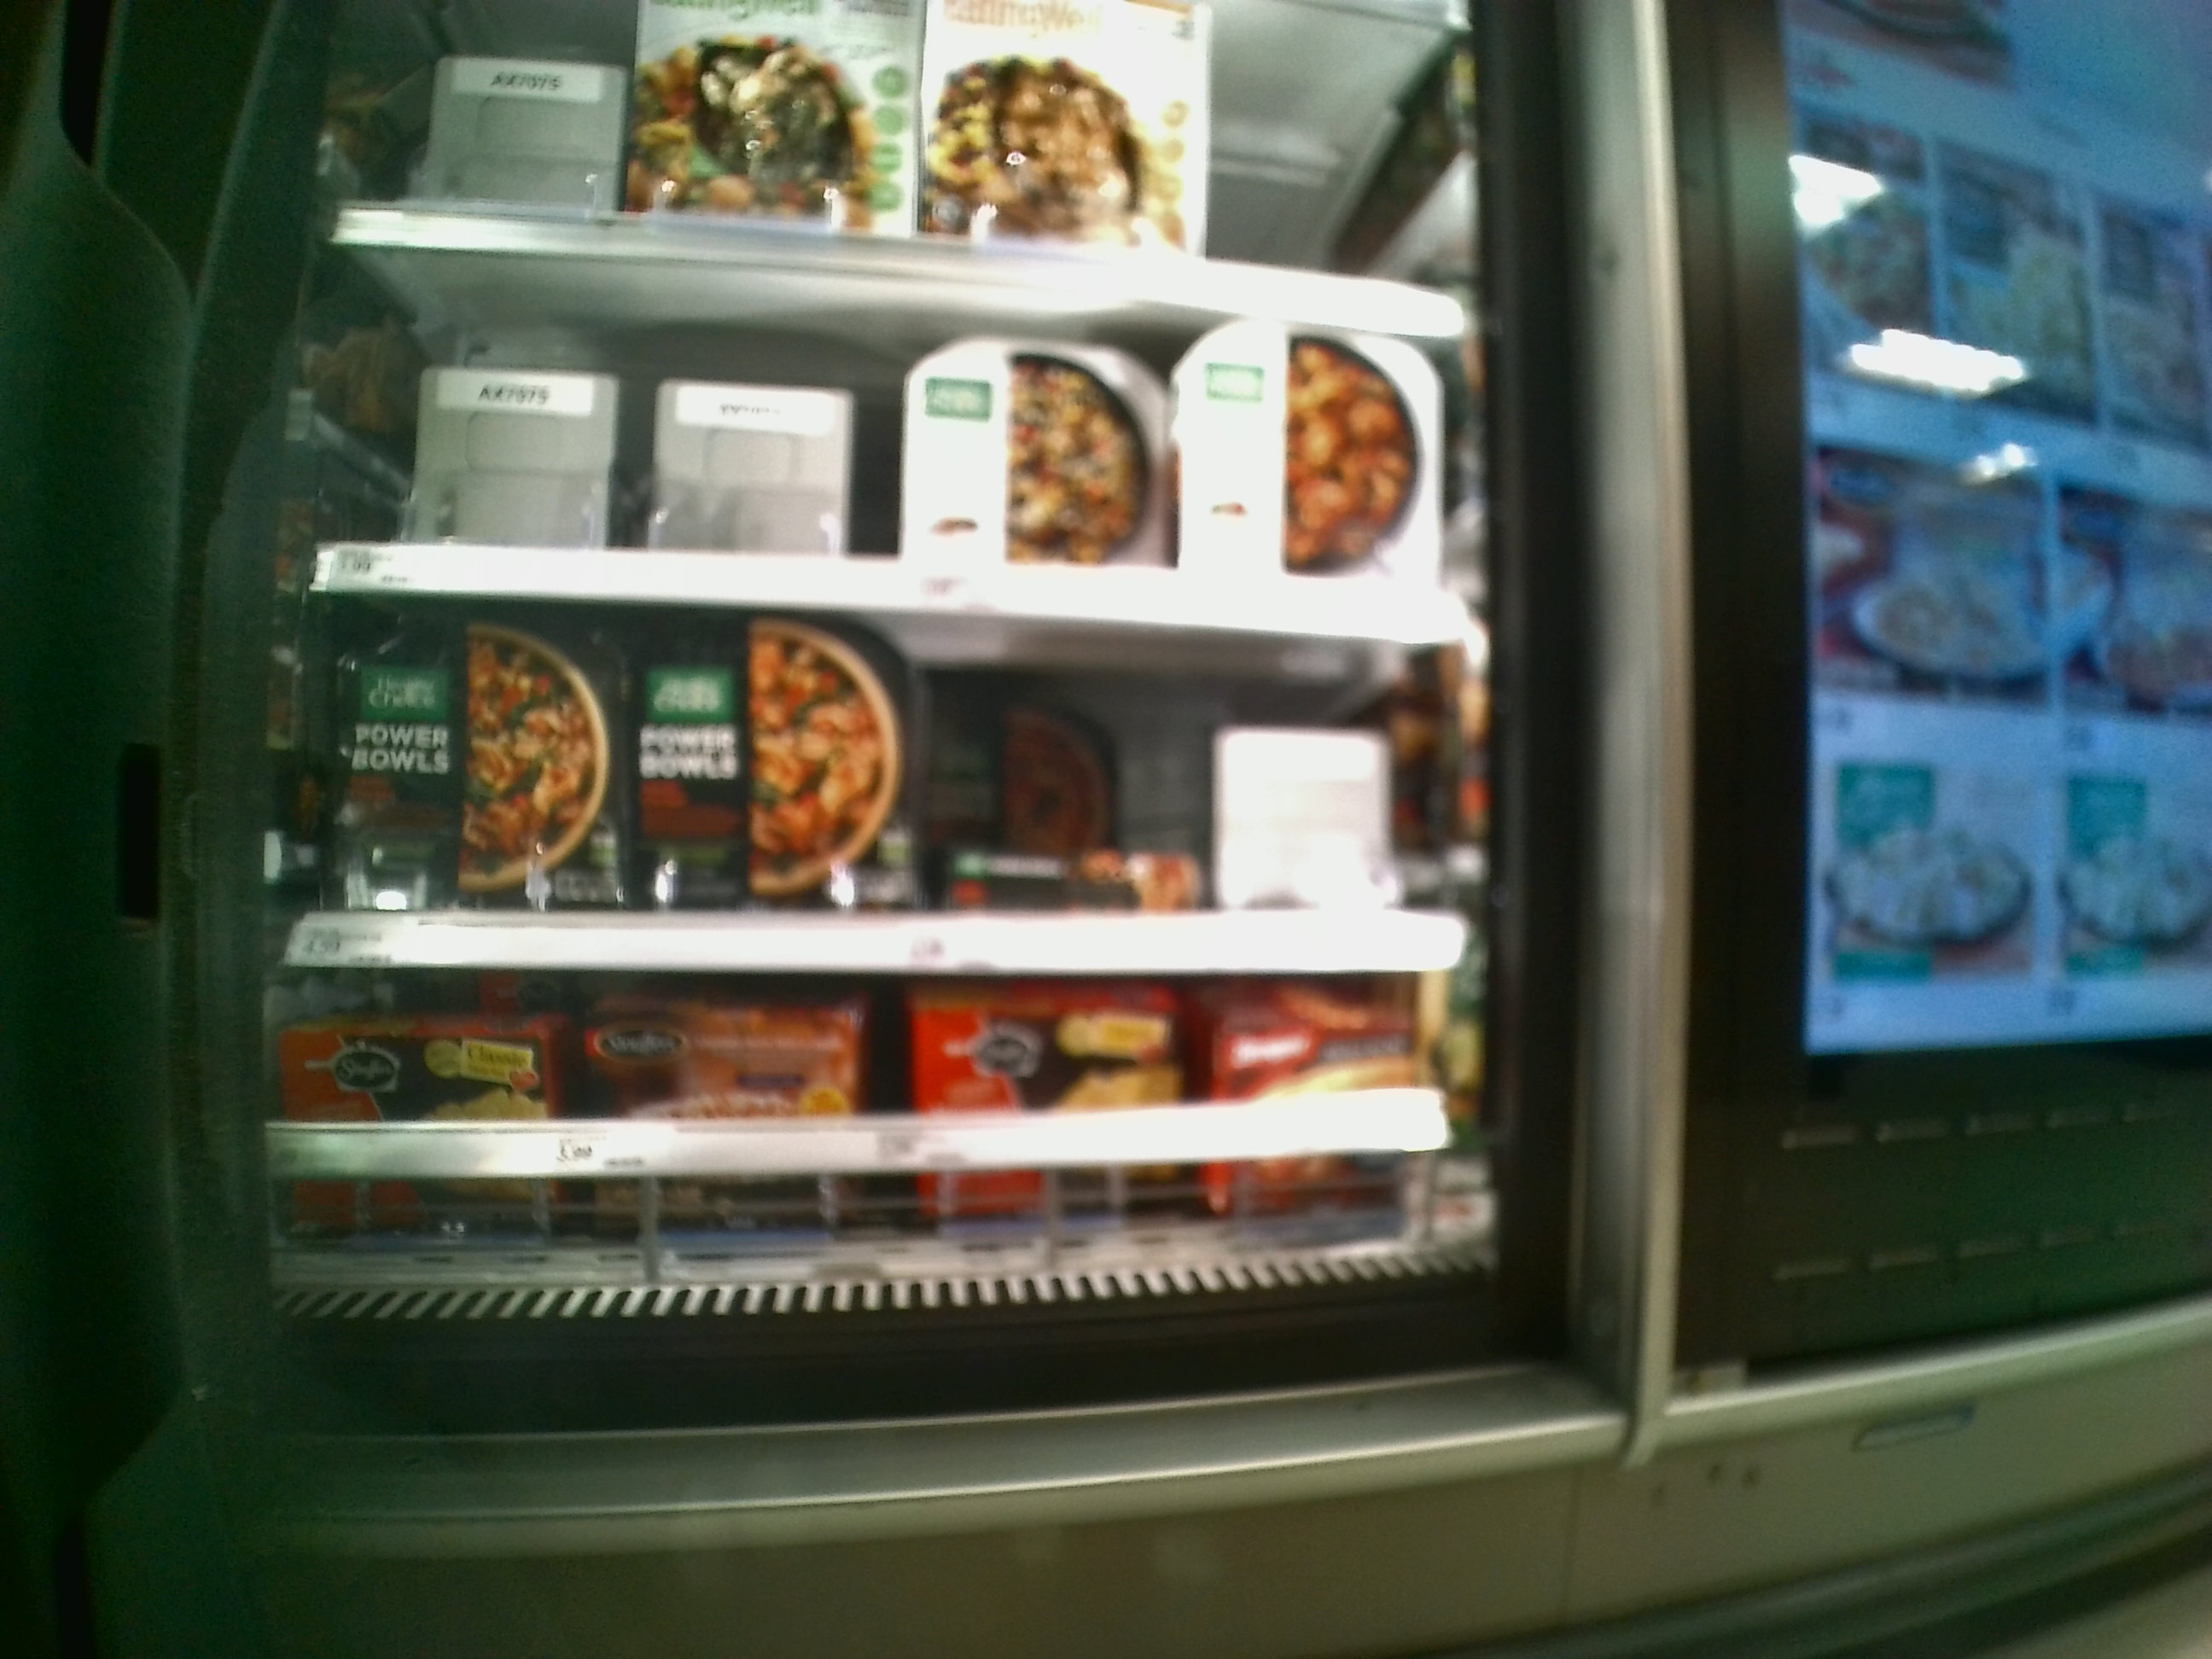shelf: (310, 230, 1465, 647), (244, 978, 1538, 1345), (296, 596, 1480, 978)
